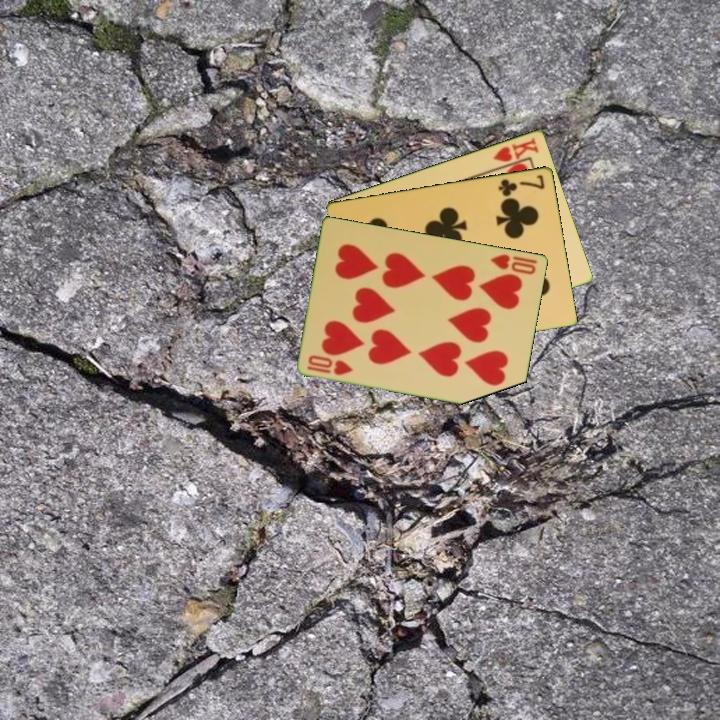10h: (487, 250, 540, 277), (304, 351, 356, 378)
7c: (495, 171, 548, 199)
Kh: (489, 134, 542, 172)
